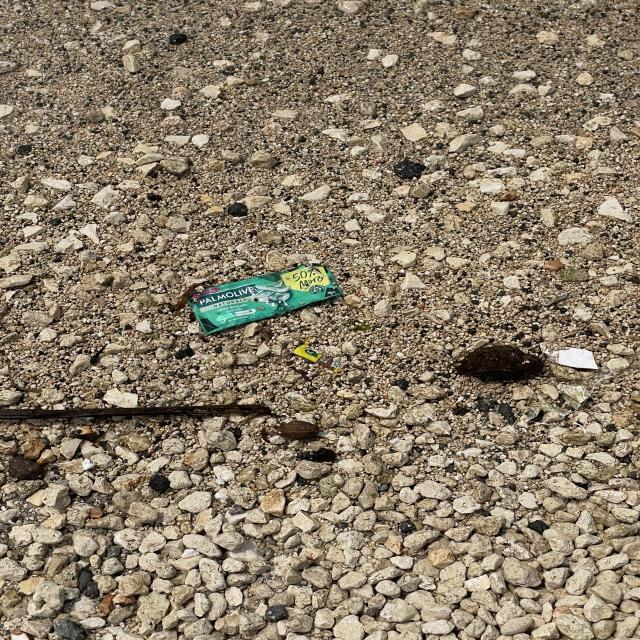plastic_waste: (188, 266, 346, 337)
